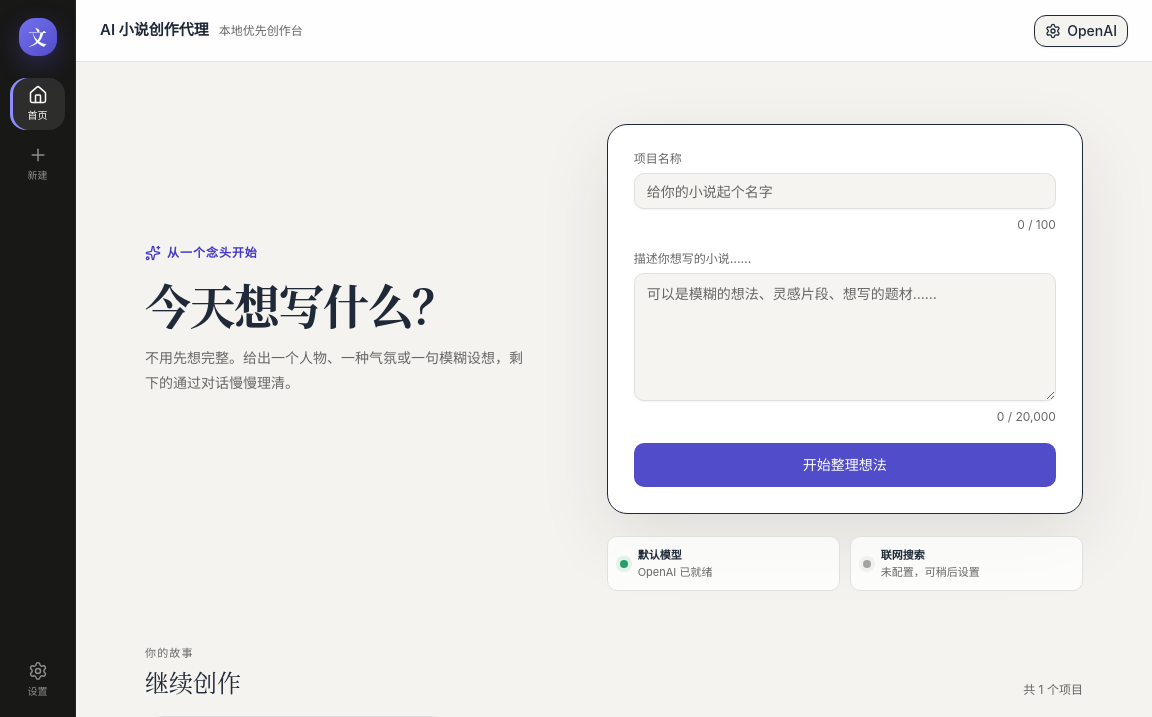
Test case: App：展示阶段与推进阶段分离（D-B6-10 / D-B8-2，跨批次 blocker 回归） › 用户点回调研后，"当前进度"仍在蓝图、"正在查看"落在调研，二者语义可区分
Click the button with aria-label "新建项目".
click(38, 164)  # box [10,138,65,190]
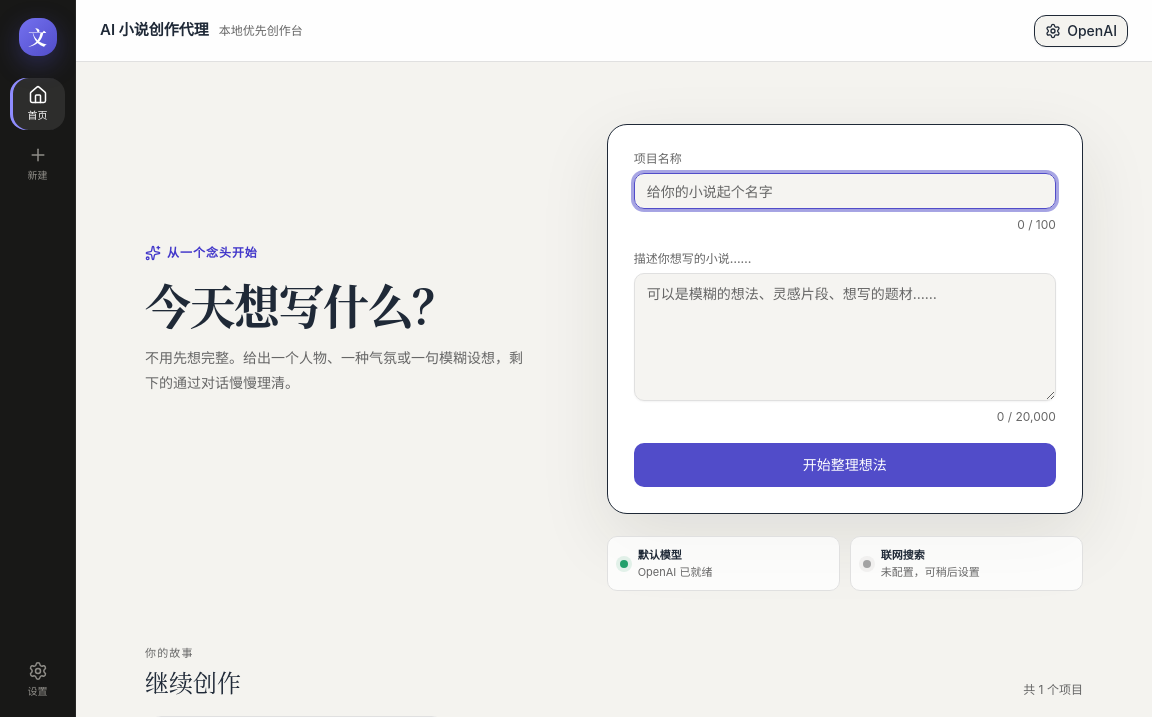
Type "测试项目" into the field labelled "项目名称".
click(845, 191); type("测试项目")  # box [634,173,1056,209]
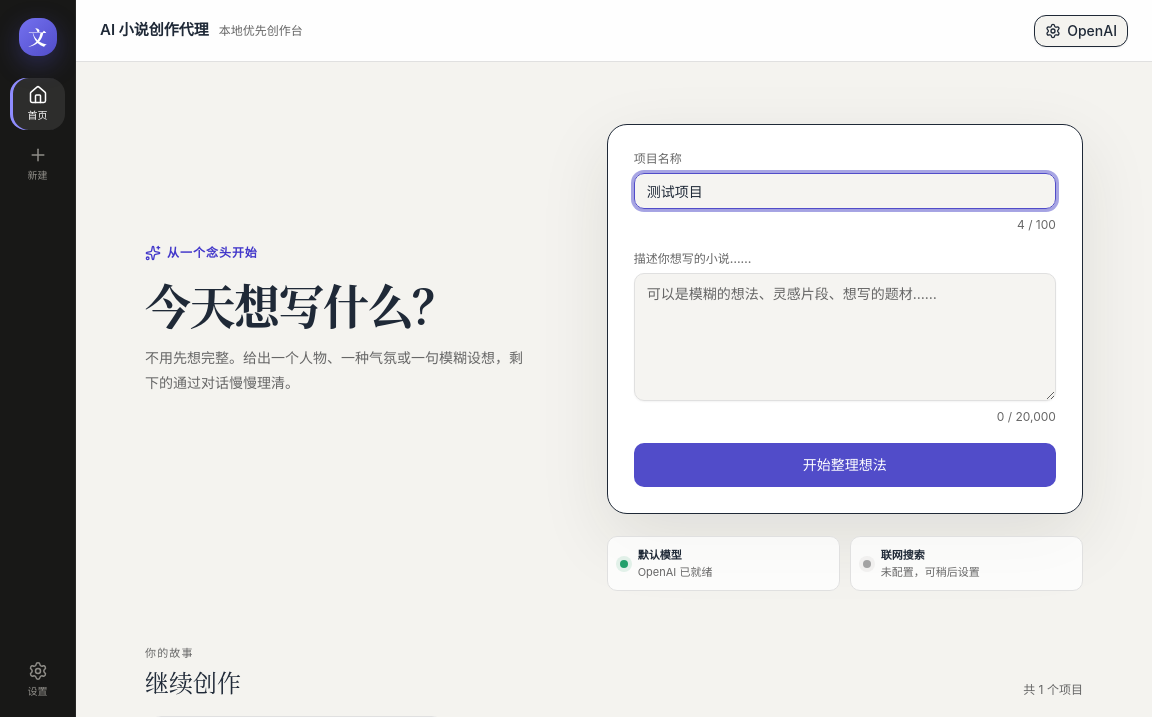
Type "测试想法" into the text box labelled "描述你想写的小说……".
click(845, 337); type("测试想法")  # box [634,273,1056,401]
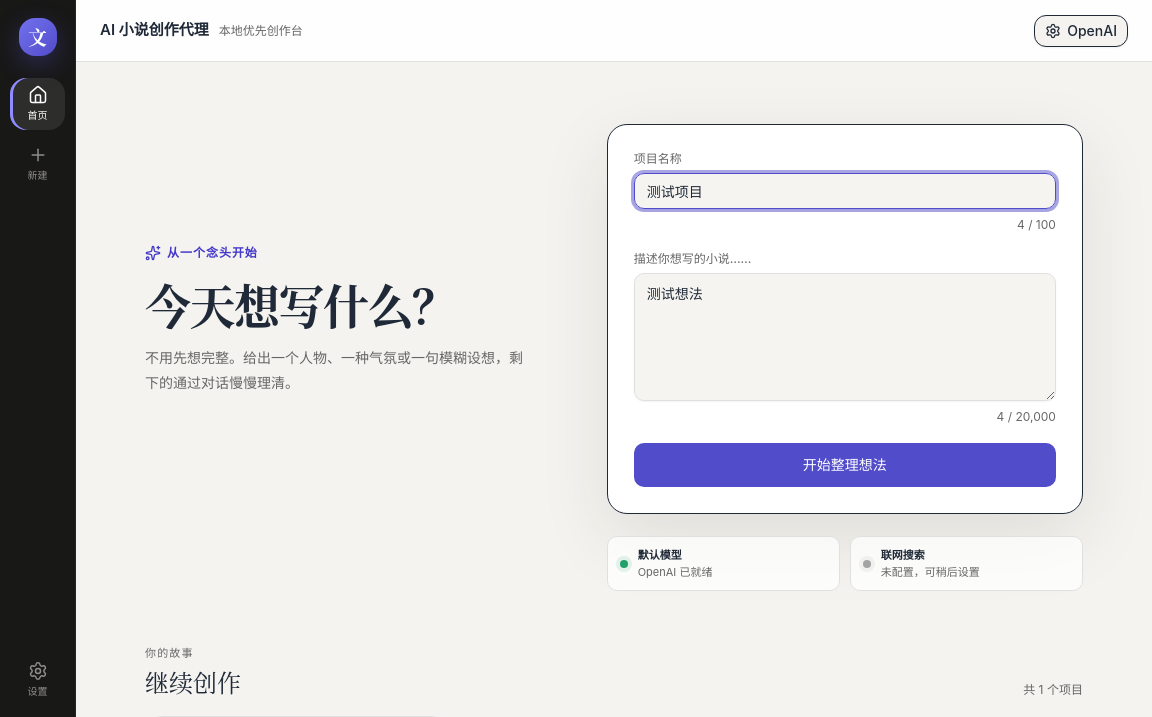
Click the button "开始整理想法".
click(845, 465)  # box [634,443,1056,487]
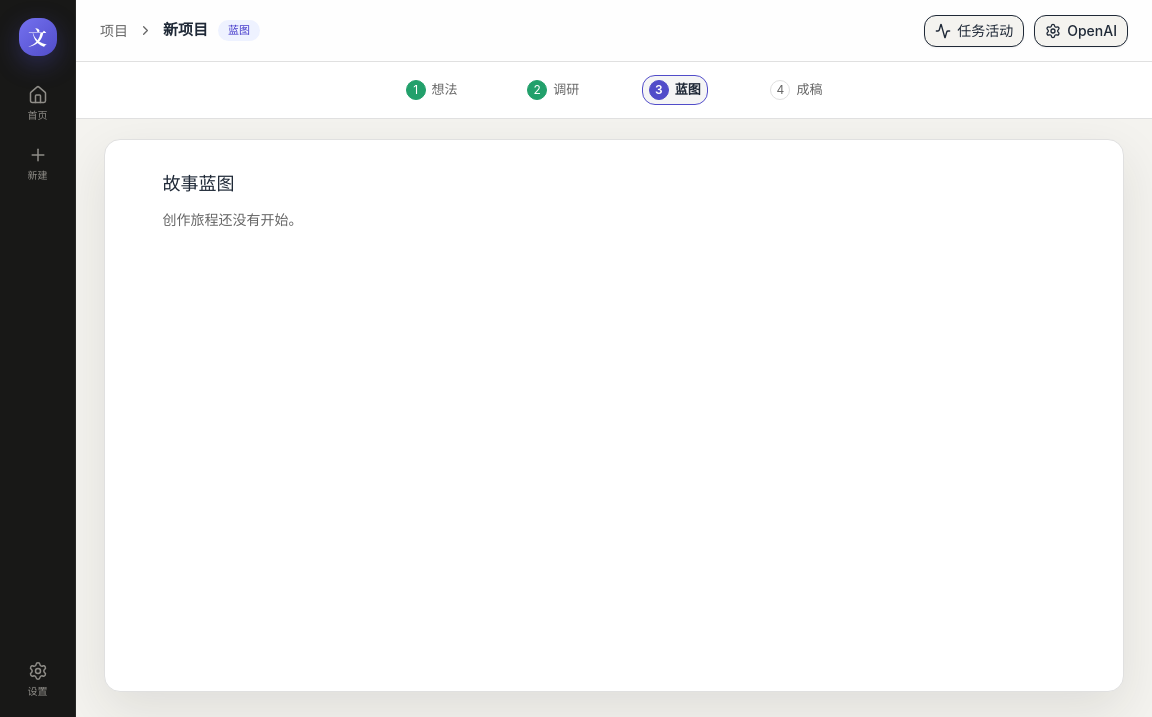
Expected: the heading "故事蓝图" is shown, [163,173,235,194]
Click the button "2 调研".
click(553, 90)  # box [521,76,585,104]
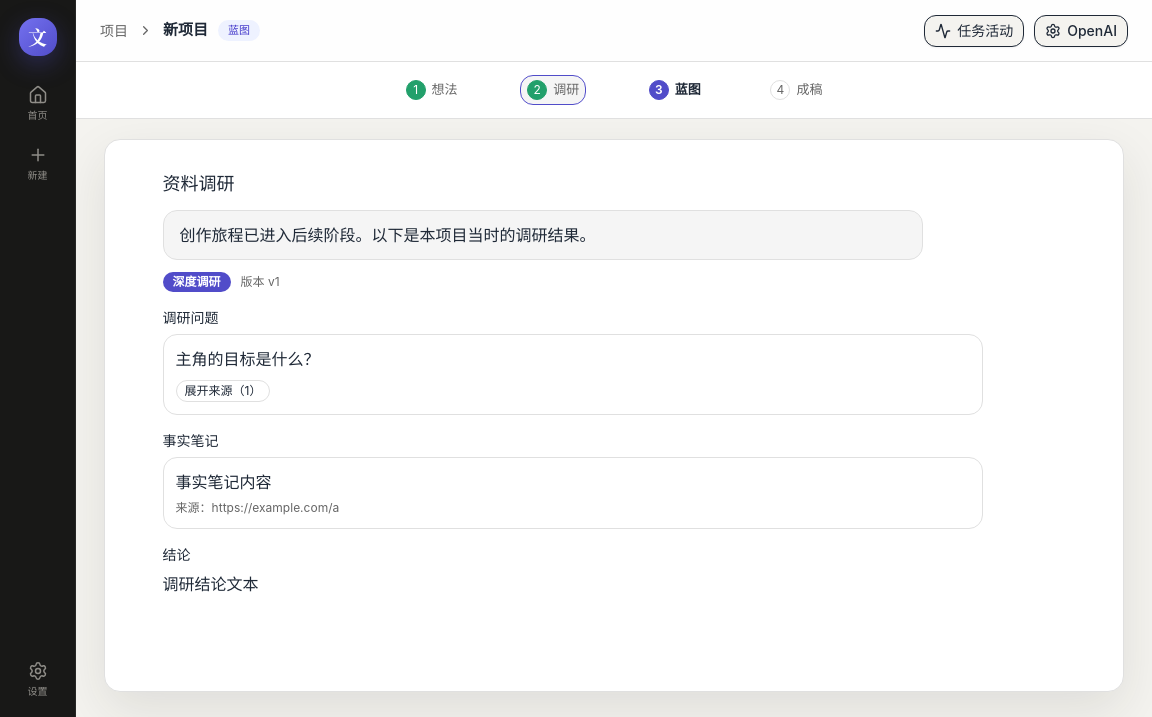
Expected: the text "调研结论文本" is shown, [163,574,259,594]
